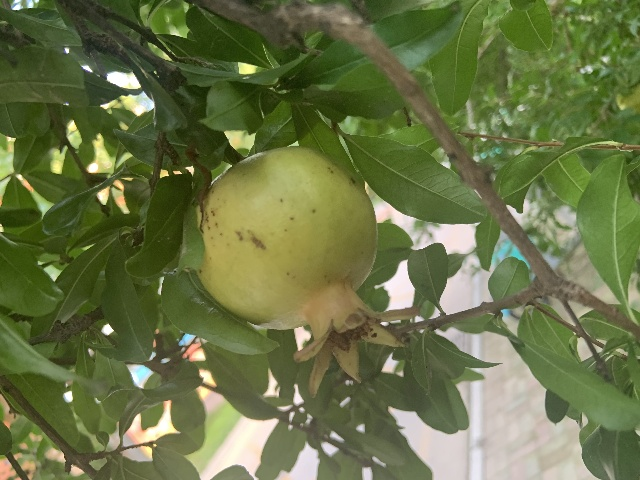mid-growth: (197, 144, 419, 396)
